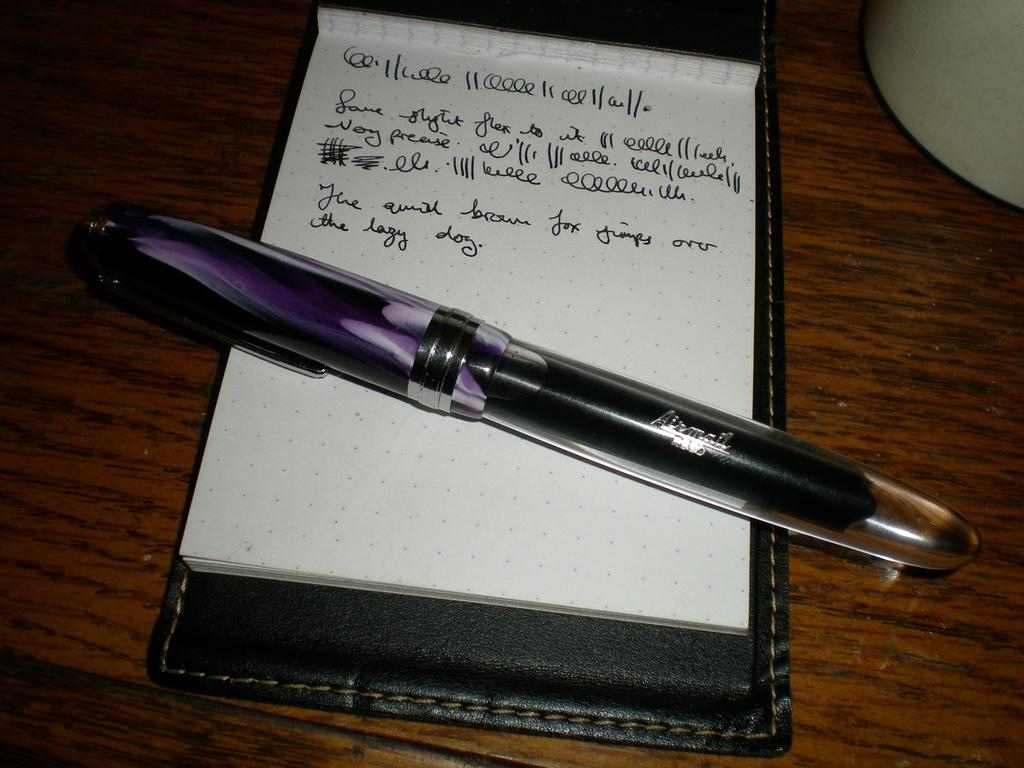pen: (63, 198, 982, 582)
